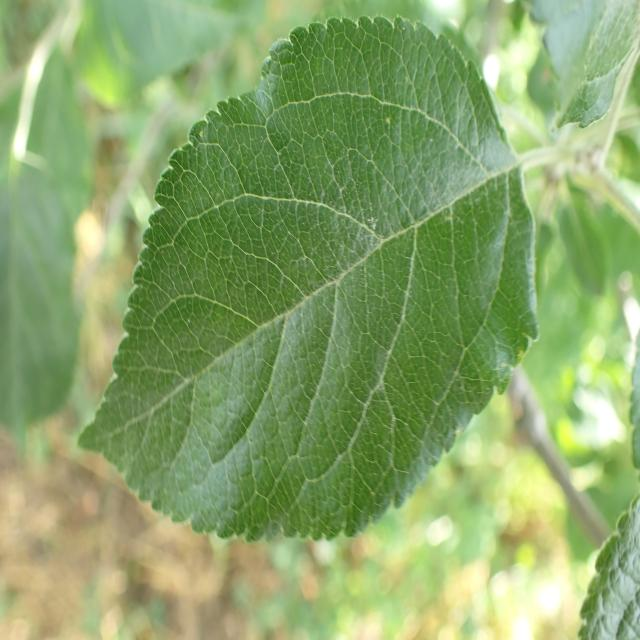healthy: (76, 13, 540, 544), (526, 0, 640, 139), (577, 491, 640, 640)
